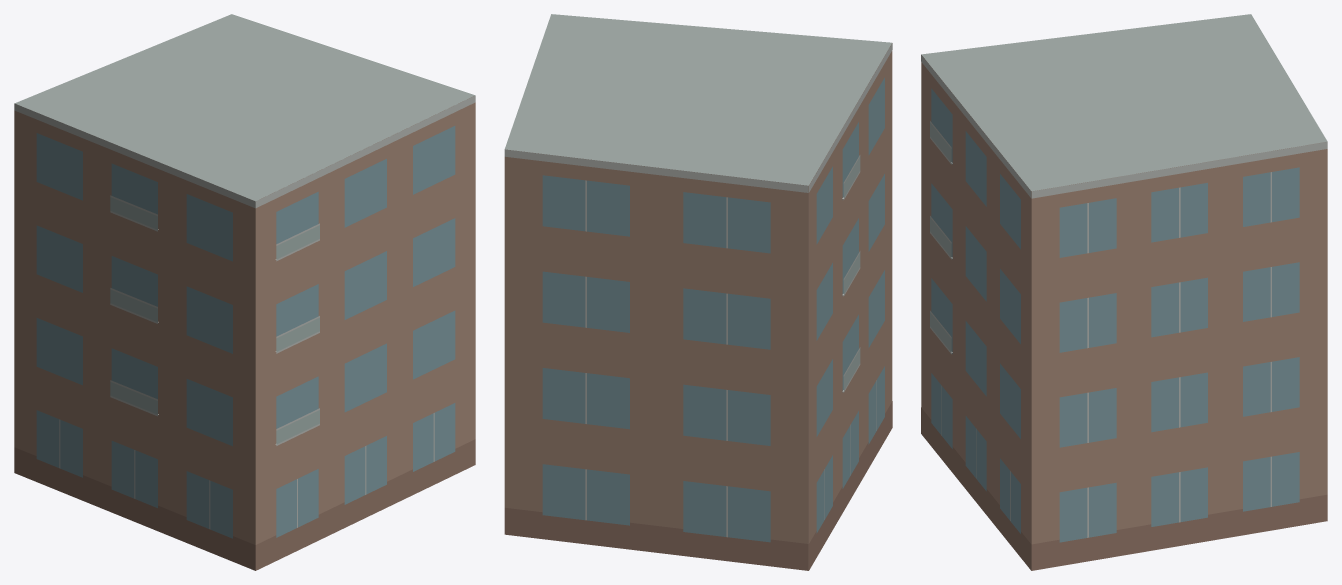
The model's file is survey-upis-32835920.glb.
3 renders of one model, left to right at view 1: azimuth 30°, elevation 25°; view 2: azimuth 150°, elevation 25°; view 3: azimuth 270°, elevation 25°, orthographic. The views are drawn at different scales.
Parts seen in each view (by area): view 1: survey-upis-32835920.tmp; view 2: survey-upis-32835920.tmp; view 3: survey-upis-32835920.tmp.
Boxes of the visible parts, box(x1,y1,x2,y2) form: survey-upis-32835920.tmp: box(14, 14, 475, 570); survey-upis-32835920.tmp: box(504, 14, 892, 570); survey-upis-32835920.tmp: box(921, 14, 1327, 570).
Bounding box in the file's own units: 12.85 × 12.8 × 12.44.
